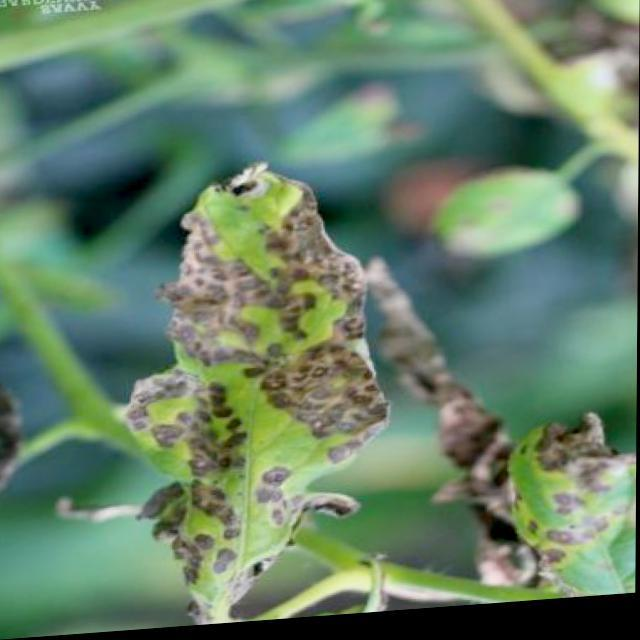Tomato late blight leaf: (125, 148, 411, 626), (487, 412, 638, 610)
